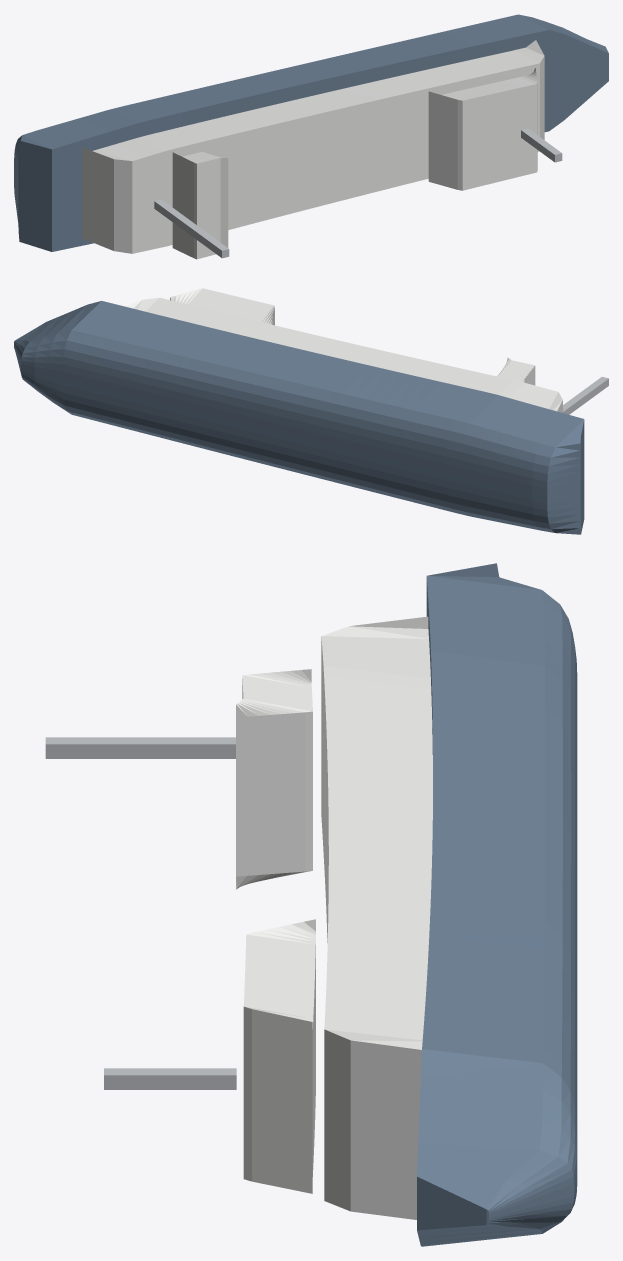
File: loft-ferry-slender.glb
The picture shows the model from 3 angles, top to bottom: view 1: azimuth 30°, elevation 25°; view 2: azimuth 150°, elevation 25°; view 3: azimuth 270°, elevation 25°; orthographic projection. The views are drawn at different scales.
Parts seen in each view (by area): view 1: ferry-loft-slender; view 2: ferry-loft-slender; view 3: ferry-loft-slender.
Part boxes in pixels (box(x1,y1,x2,y2)): ferry-loft-slender: box(14, 14, 608, 259); ferry-loft-slender: box(14, 288, 608, 534); ferry-loft-slender: box(45, 563, 577, 1246).
Size of the model in its own units: 1.93 by 0.3511 by 0.7807.
